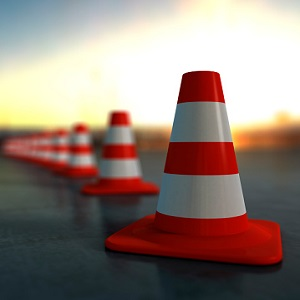traffic cone: (105, 71, 283, 268), (81, 110, 159, 197)
